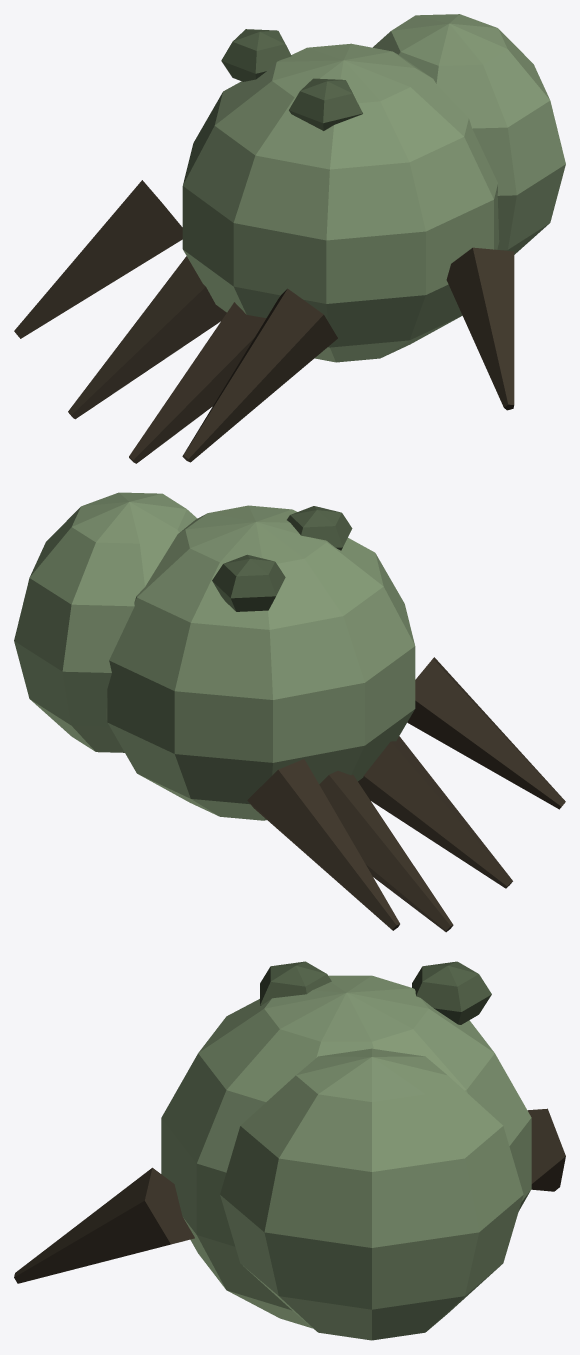
Rendered from troll_fist_r.glb.
The picture shows the model from 3 angles, top to bottom: view 1: azimuth 30°, elevation 25°; view 2: azimuth 150°, elevation 25°; view 3: azimuth 270°, elevation 25°; orthographic projection. The views are drawn at different scales.
Visible parts, largest first — view 1: troll_fist_r; view 2: troll_fist_r; view 3: troll_fist_r.
Part boxes in pixels (box(x1,y1,x2,y2)): troll_fist_r: box(14, 14, 565, 463); troll_fist_r: box(14, 492, 565, 932); troll_fist_r: box(14, 961, 565, 1340).
Size of the model in its own units: 0.4629 by 0.3289 by 0.4362.
